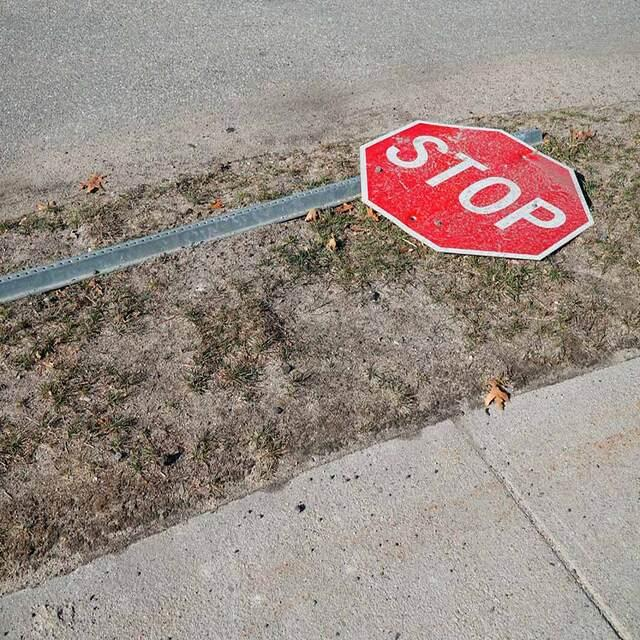Inclined Pole: (0, 90, 614, 327)
